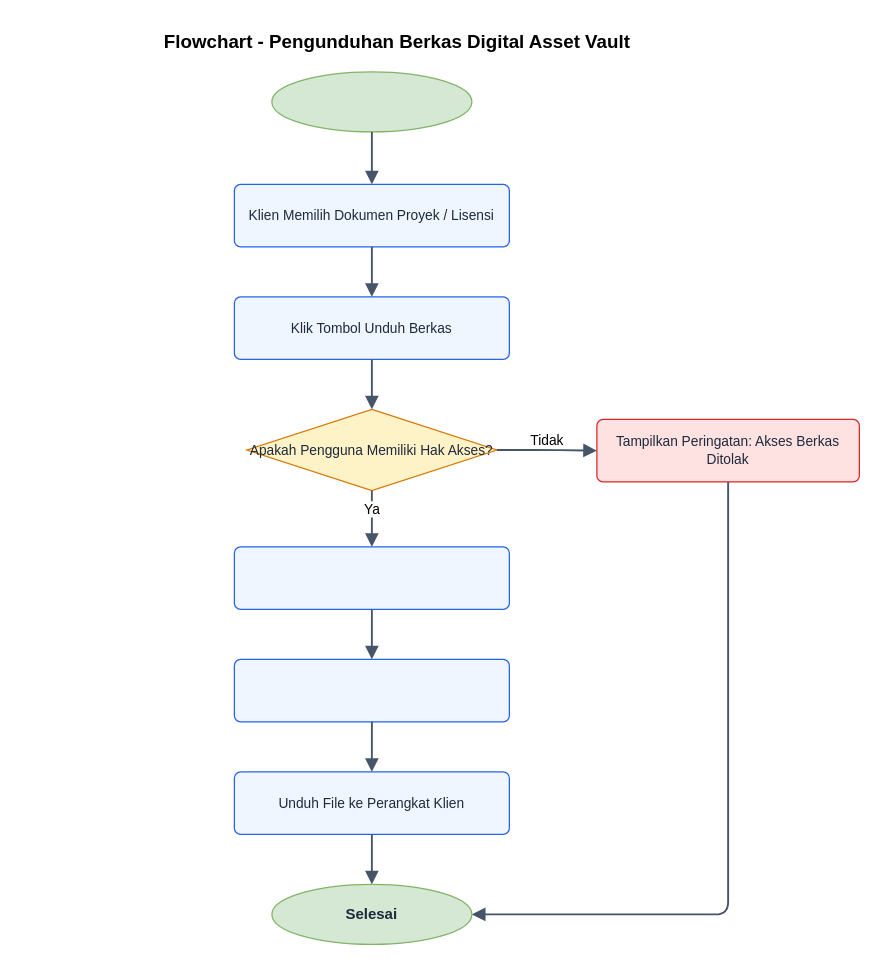
The diagram is 881 pixels wide and 966 high, and some of its shapes have lost their labels. The centre of each missing label's shape, as x and y in pixels:
Catat Riwayat Akses ke asset_access_logs: point (371, 577)
Generate Signed URL Unduhan Sementara: point (371, 690)
Mulai: point (371, 101)
